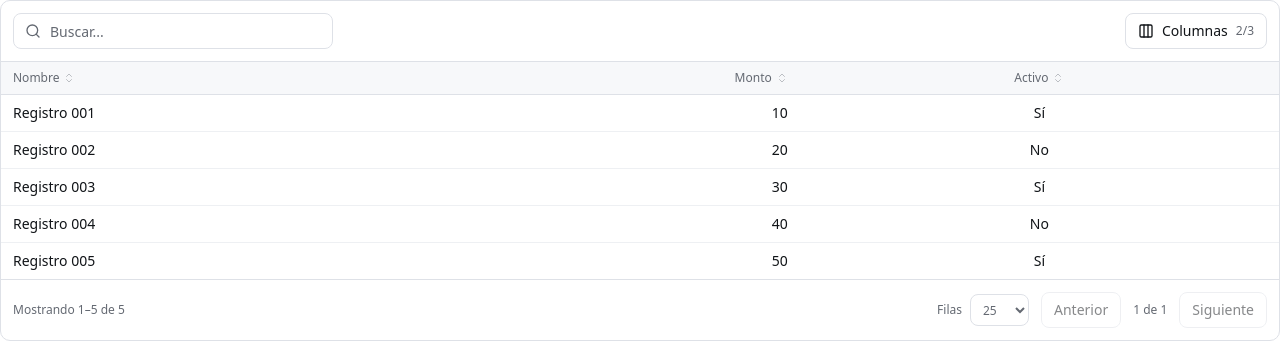
Test: AdvancedTable › configuración de columnas › con la capacidad sustituye el desplegable por el panel lateral
Click the button with aria-label "Columnas,". click: (1196, 31)
box: [1125,13,1267,49]
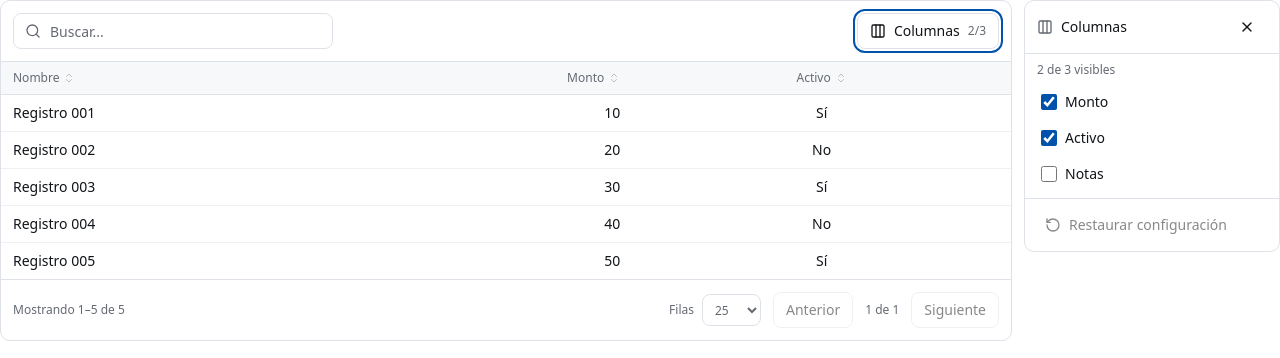
Now the number of buttons named "Columnas," is 1, box [857,13,999,49]
